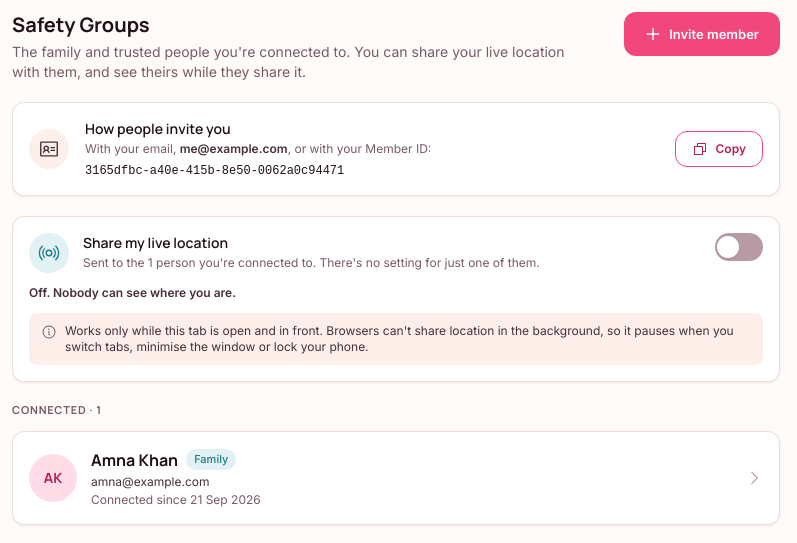
Test: Safety Groups — live location › the list › turning it on asks the browser for the position, and sends it — to the relay, as {lat, lng} — once connected
What coordinates should you click on to do the following:
click the switch named "Share my live location"
I would click on:
 (739, 247)
Its box is [715,233,763,261].
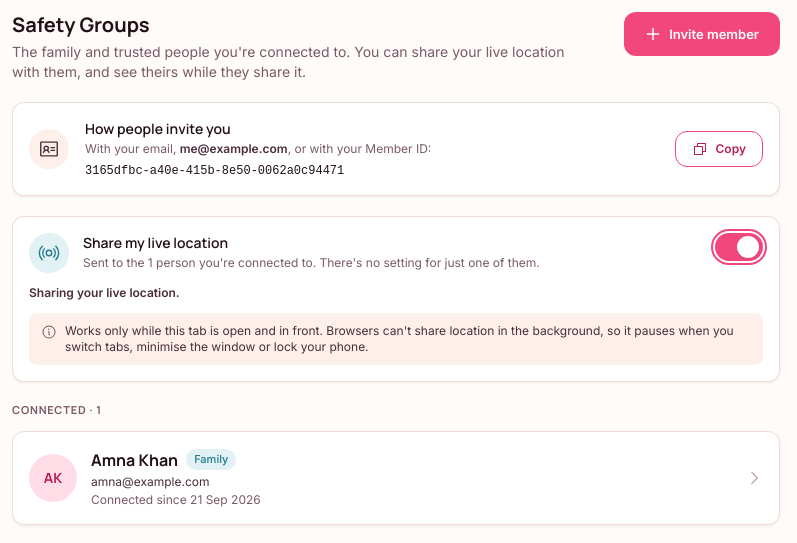
Expected: the switch named "Share my live location" is checked, [715,233,763,261]
Expected: the message reads "Sharing your live location.", [29,285,180,300]
